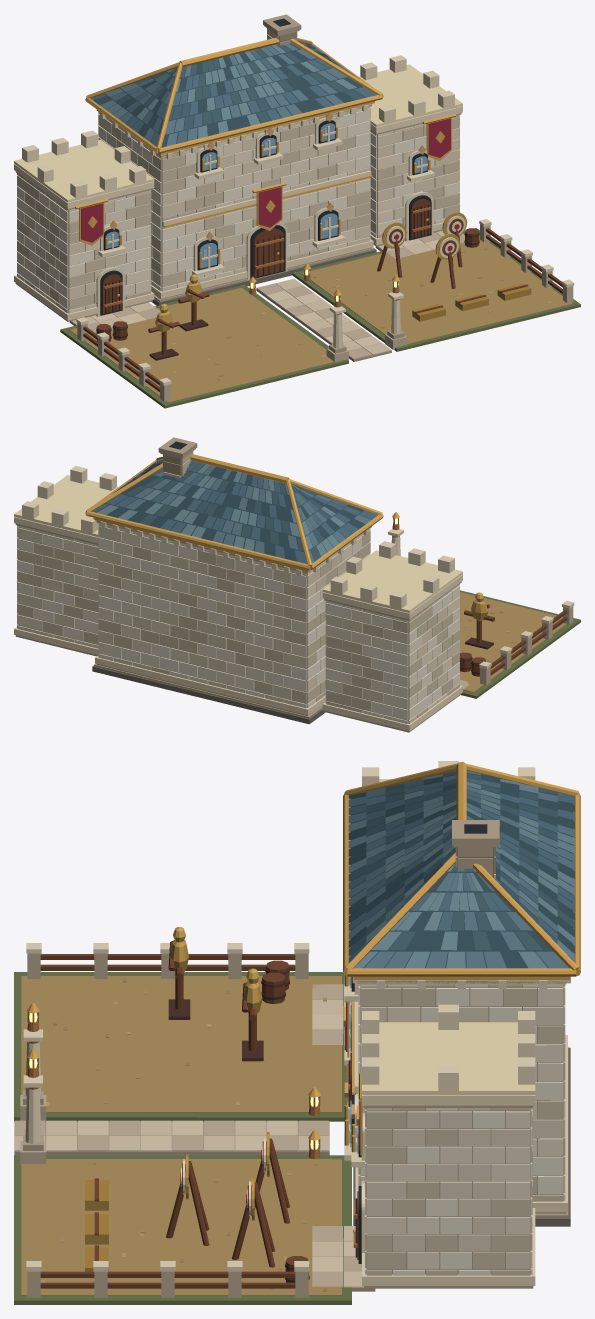
Rendered from barracks-nivel-8.glb.
3 renders of one model, top to bottom at view 1: azimuth 30°, elevation 25°; view 2: azimuth 150°, elevation 25°; view 3: azimuth 270°, elevation 25°, orthographic. The views are drawn at different scales.
Parts seen in each view (by area): view 1: Fortaleza dos instrutores #ad8f5a, Fortaleza dos instrutores #e6d7ba, Fortaleza dos instrutores #eae1ce, Fortaleza dos instrutores #cec1a8, Fortaleza dos instrutores #ded1b9, Fortaleza dos instrutores #e8dcc5, Fortaleza dos instrutores #eadbb2, Fortaleza dos instrutores #d5a452, Fortaleza dos instrutores #344d58, Fortaleza dos instrutores #70432c, Fortaleza dos instrutores #68744a, Fortaleza dos instrutores #c1af99 (+16 smaller); view 2: Fortaleza dos instrutores #cec1a8, Fortaleza dos instrutores #eae1ce, Fortaleza dos instrutores #ded1b9, Fortaleza dos instrutores #e8dcc5, Fortaleza dos instrutores #e6d7ba, Fortaleza dos instrutores #344d58, Fortaleza dos instrutores #eadbb2, Fortaleza dos instrutores #d5a452, Fortaleza dos instrutores #ad8f5a, Fortaleza dos instrutores #486574, Fortaleza dos instrutores #b3a390, Fortaleza dos instrutores #637f89 (+7 smaller); view 3: Fortaleza dos instrutores #ad8f5a, Fortaleza dos instrutores #e6d7ba, Fortaleza dos instrutores #344d58, Fortaleza dos instrutores #ded1b9, Fortaleza dos instrutores #cec1a8, Fortaleza dos instrutores #d5a452, Fortaleza dos instrutores #eadbb2, Fortaleza dos instrutores #70432c, Fortaleza dos instrutores #68744a, Fortaleza dos instrutores #c1af99, Fortaleza dos instrutores #637f89, Fortaleza dos instrutores #e8dcc5 (+15 smaller).
Boxes of the visible parts, x1=… form: Fortaleza dos instrutores #ad8f5a: x1=69, y1=233, x2=572, y2=402; Fortaleza dos instrutores #e6d7ba: x1=14, y1=55, x2=574, y2=385; Fortaleza dos instrutores #eae1ce: x1=17, y1=107, x2=459, y2=309; Fortaleza dos instrutores #cec1a8: x1=17, y1=108, x2=459, y2=313; Fortaleza dos instrutores #ded1b9: x1=17, y1=104, x2=459, y2=309; Fortaleza dos instrutores #e8dcc5: x1=17, y1=117, x2=459, y2=313; Fortaleza dos instrutores #eadbb2: x1=14, y1=64, x2=465, y2=257; Fortaleza dos instrutores #d5a452: x1=75, y1=37, x2=455, y2=314; Fortaleza dos instrutores #344d58: x1=94, y1=42, x2=366, y2=147; Fortaleza dos instrutores #70432c: x1=83, y1=199, x2=562, y2=391; Fortaleza dos instrutores #68744a: x1=60, y1=228, x2=580, y2=408; Fortaleza dos instrutores #c1af99: x1=77, y1=224, x2=573, y2=401; Fortaleza dos instrutores #cec1a8: x1=17, y1=525, x2=459, y2=717; Fortaleza dos instrutores #eae1ce: x1=17, y1=523, x2=459, y2=719; Fortaleza dos instrutores #ded1b9: x1=17, y1=521, x2=459, y2=723; Fortaleza dos instrutores #e8dcc5: x1=17, y1=525, x2=459, y2=723; Fortaleza dos instrutores #e6d7ba: x1=14, y1=466, x2=574, y2=731; Fortaleza dos instrutores #344d58: x1=96, y1=462, x2=371, y2=561; Fortaleza dos instrutores #eadbb2: x1=14, y1=475, x2=462, y2=613; Fortaleza dos instrutores #d5a452: x1=85, y1=454, x2=399, y2=571; Fortaleza dos instrutores #ad8f5a: x1=459, y1=592, x2=566, y2=692; Fortaleza dos instrutores #486574: x1=91, y1=460, x2=377, y2=563; Fortaleza dos instrutores #b3a390: x1=17, y1=525, x2=409, y2=723; Fortaleza dos instrutores #637f89: x1=96, y1=460, x2=345, y2=556; Fortaleza dos instrutores #ad8f5a: x1=21, y1=976, x2=341, y2=1295; Fortaleza dos instrutores #e6d7ba: x1=23, y1=761, x2=567, y2=1285; Fortaleza dos instrutores #344d58: x1=348, y1=772, x2=575, y2=968; Fortaleza dos instrutores #ded1b9: x1=352, y1=976, x2=570, y2=1274; Fortaleza dos instrutores #cec1a8: x1=358, y1=984, x2=565, y2=1275; Fortaleza dos instrutores #d5a452: x1=27, y1=761, x2=580, y2=1233; Fortaleza dos instrutores #eadbb2: x1=181, y1=779, x2=566, y2=1216; Fortaleza dos instrutores #70432c: x1=40, y1=954, x2=358, y2=1288; Fortaleza dos instrutores #68744a: x1=14, y1=972, x2=351, y2=1304; Fortaleza dos instrutores #c1af99: x1=14, y1=953, x2=361, y2=1297; Fortaleza dos instrutores #637f89: x1=348, y1=774, x2=575, y2=968; Fortaleza dos instrutores #e8dcc5: x1=360, y1=988, x2=565, y2=1274.
Bounding box in the file's own units: 13.45 × 6.75 × 9.82.
